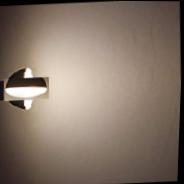Fan: (8, 70, 45, 106)
